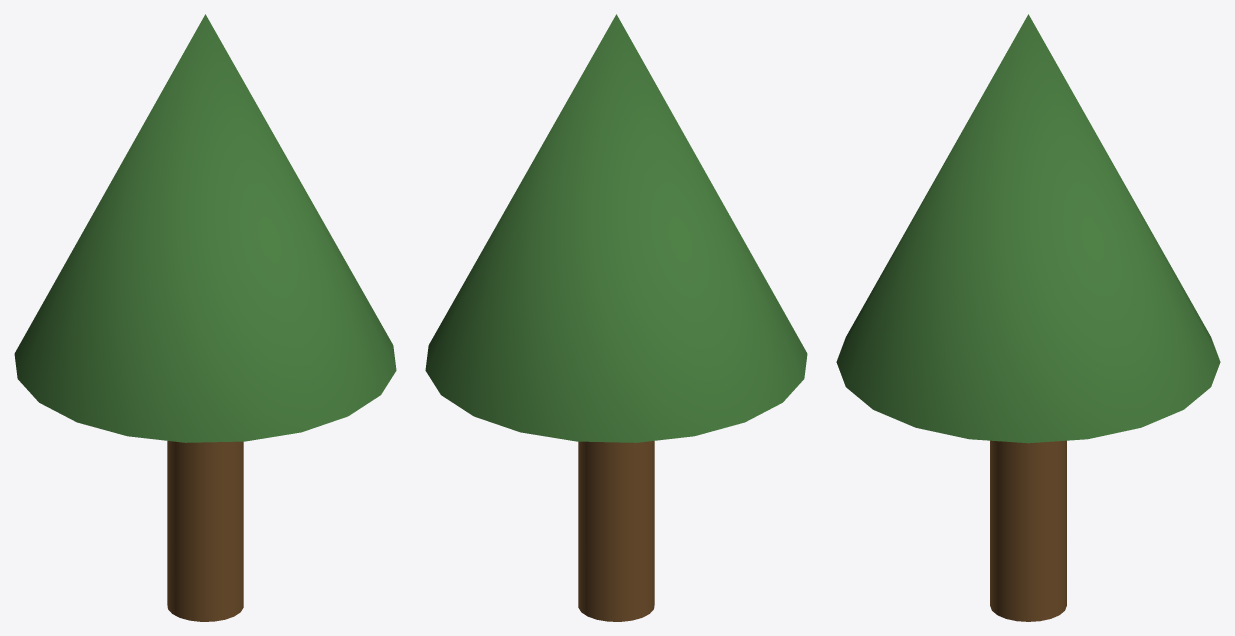
Rendered from Tree Mesh.fbx.
3 views of the same model, side by side, from view 1: azimuth 30°, elevation 25°; view 2: azimuth 150°, elevation 25°; view 3: azimuth 270°, elevation 25° (orthographic).
Parts seen in each view (by area): view 1: pCylinder1; view 2: pCylinder1; view 3: pCylinder1.
Boxes of the visible parts, x1,y1,x2,y2 form: pCylinder1: [14, 14, 396, 621]; pCylinder1: [425, 14, 807, 621]; pCylinder1: [836, 14, 1220, 621].
Bounding box in the file's own units: 10 × 17 × 10.
